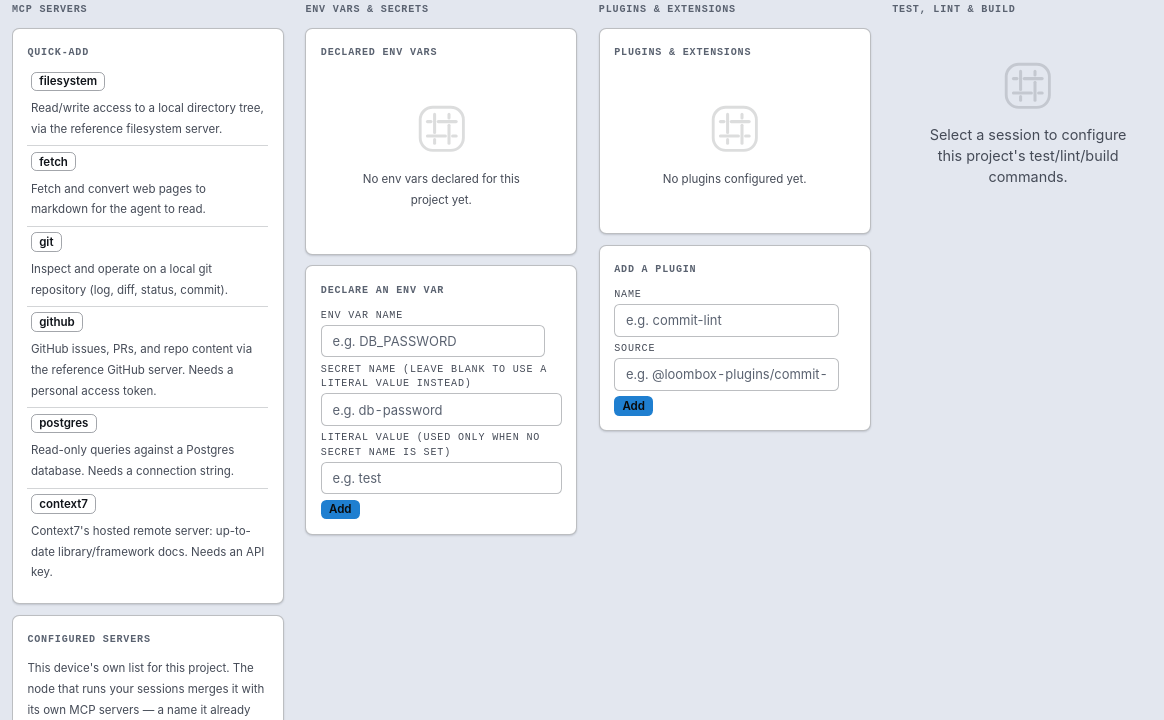
Scenario: ProjectConfigPanel (issue #366) › declaring a project env var round-trips through its own storage, independently of the MCP list
The image size is (1164, 720).
Type "DB_PASSWORD" into the field with test id "env-add-name" at (433, 341), box [321,325,545,358]
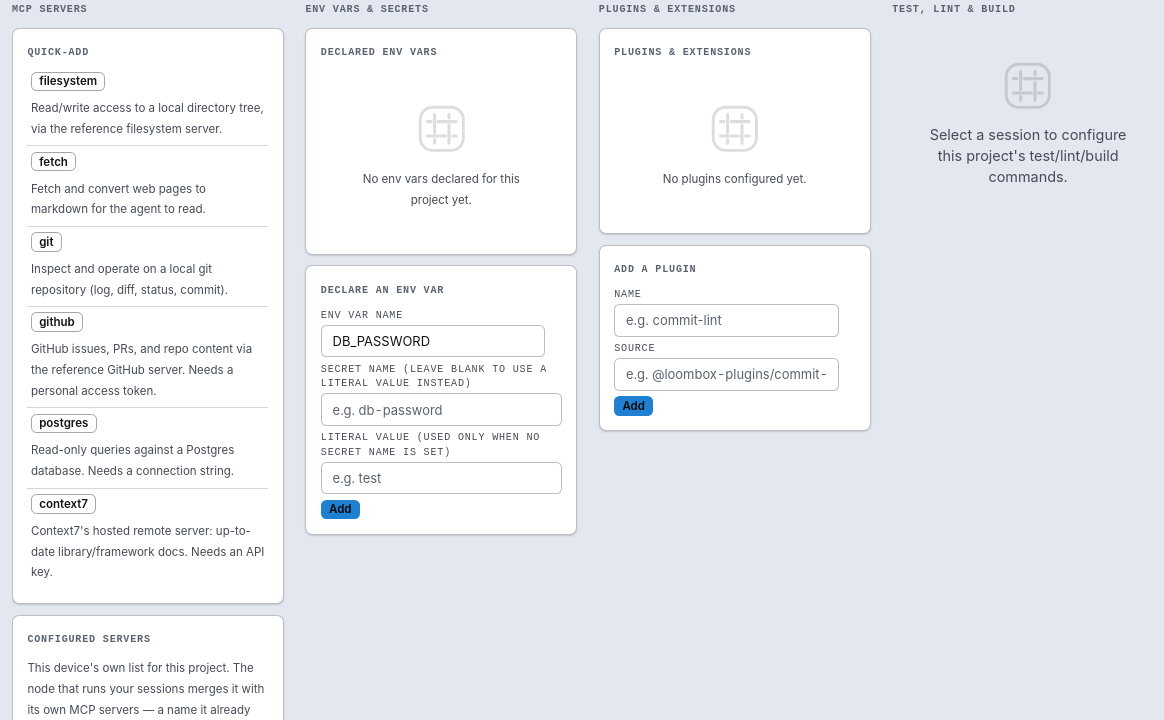
Type "db-password" into the field with test id "env-add-secret" at (441, 410), box [321,394,562,426]
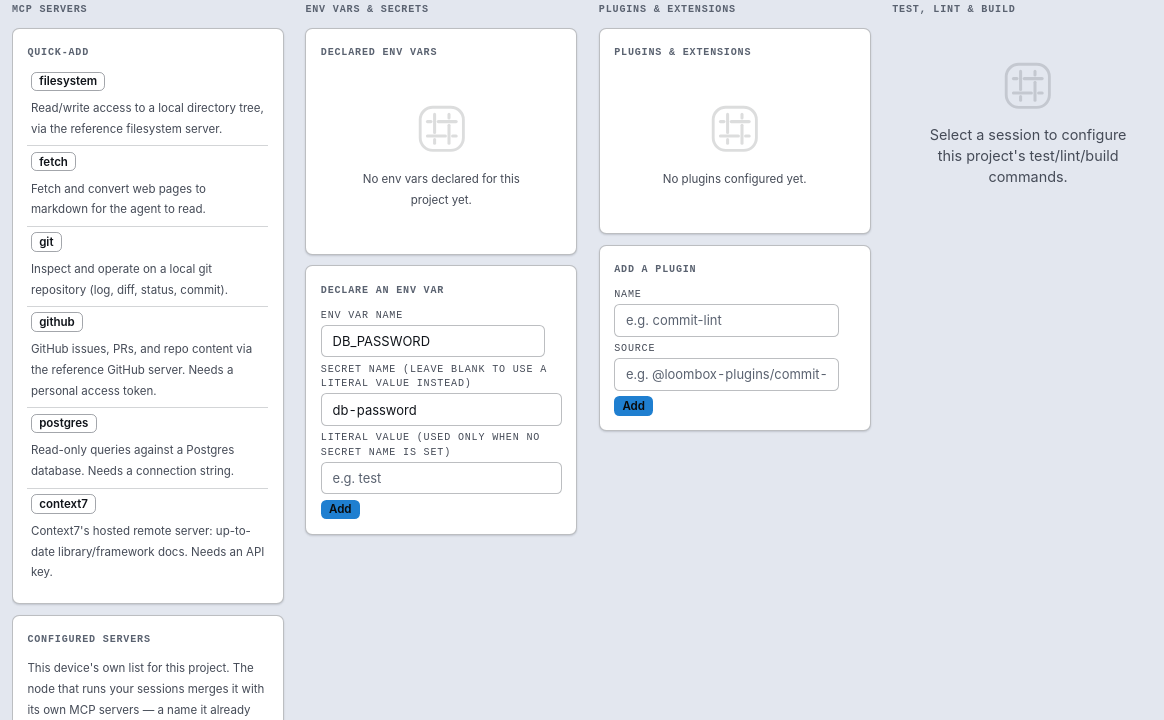
Click the button with test id "env-add-submit" at (340, 509), box [321,500,360,519]
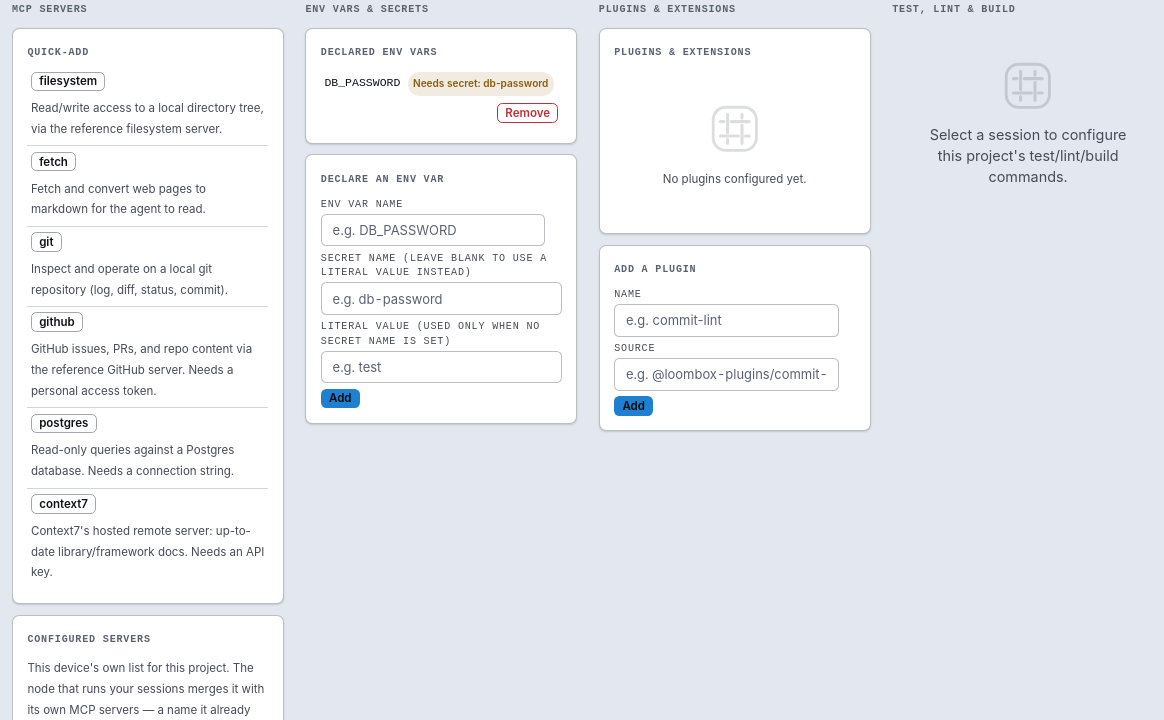
Check: the list item with test id "project-secret-DB_PASSWORD" is shown, box [321,72,562,128]
